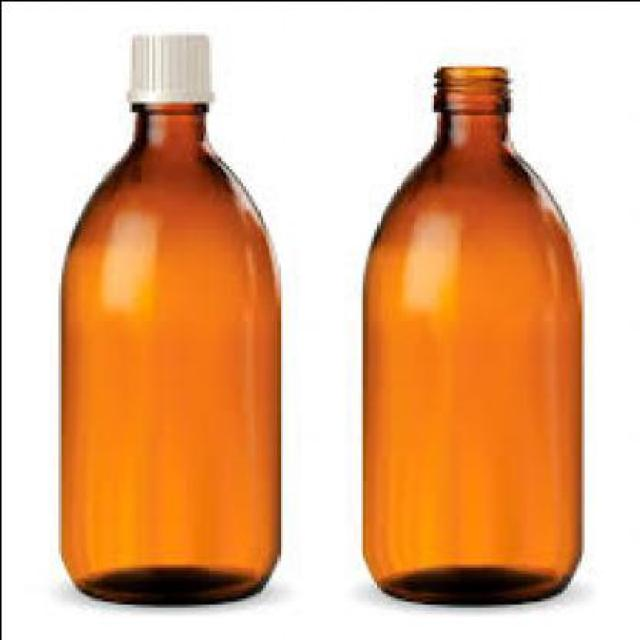GLASS: (364, 59, 584, 601), (60, 99, 285, 601)
PLASTIC: (128, 29, 220, 94)
